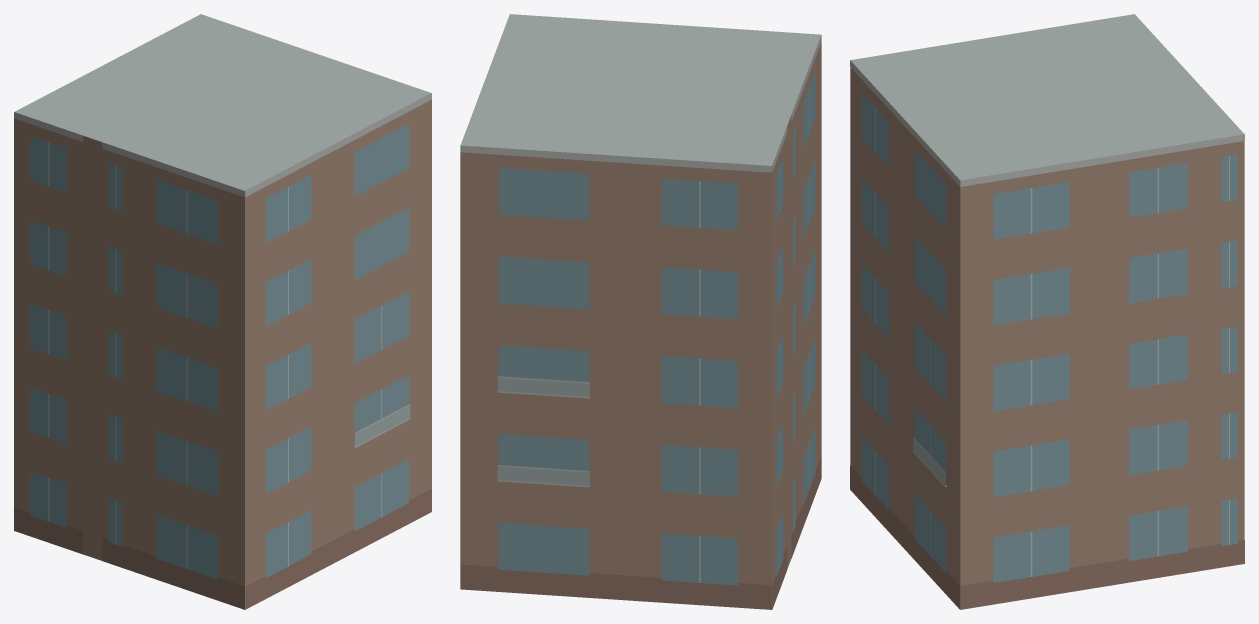
File: survey-upis-32853958.glb
3 renders of one model, left to right at view 1: azimuth 30°, elevation 25°; view 2: azimuth 150°, elevation 25°; view 3: azimuth 270°, elevation 25°, orthographic. The views are drawn at different scales.
Parts seen in each view (by area): view 1: survey-upis-32853958.tmp; view 2: survey-upis-32853958.tmp; view 3: survey-upis-32853958.tmp.
Part boxes in pixels (x1,y1,x2,y2): survey-upis-32853958.tmp: (14, 14, 431, 609); survey-upis-32853958.tmp: (460, 14, 821, 609); survey-upis-32853958.tmp: (850, 14, 1244, 609).
Bounding box in the file's own units: 13.22 × 15.9 × 13.25.
